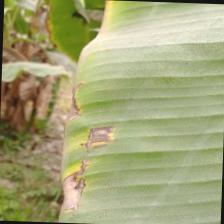cordana: (58, 0, 224, 224)
